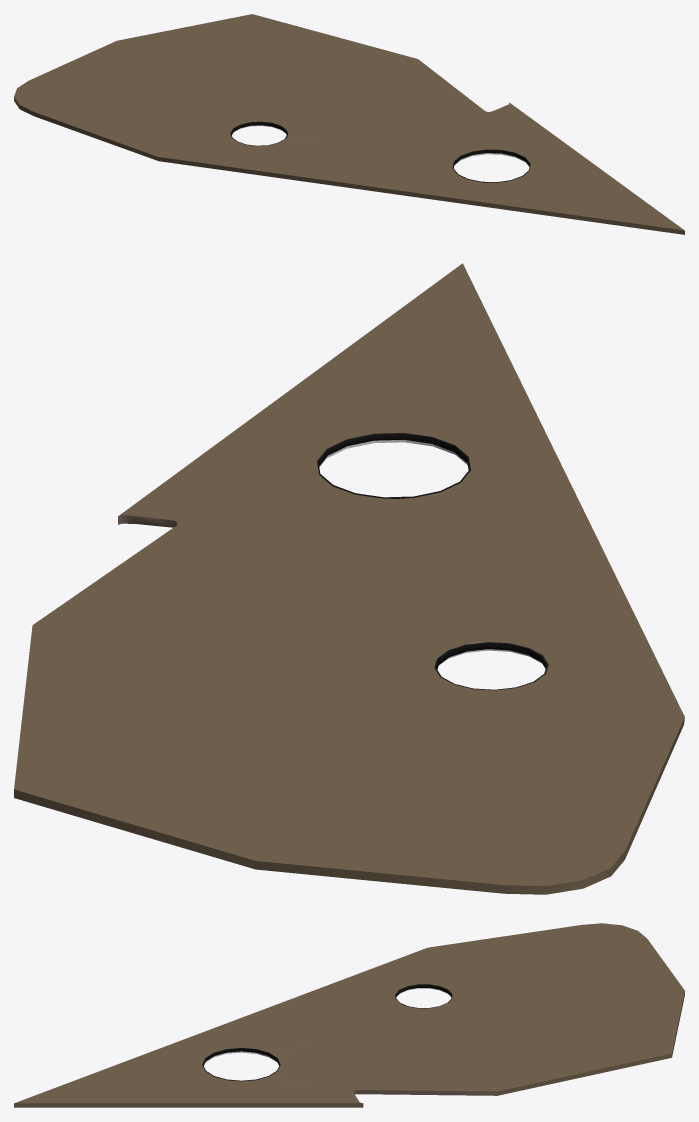
The model's file is sand.fbx.
The picture shows the model from 3 angles, top to bottom: view 1: azimuth 30°, elevation 25°; view 2: azimuth 150°, elevation 25°; view 3: azimuth 270°, elevation 25°; orthographic projection. The views are drawn at different scales.
Parts seen in each view (by area): view 1: Cylinder.041; view 2: Cylinder.041; view 3: Cylinder.041.
Part boxes in pixels (<box>): Cylinder.041: <box>14,14,684,234</box>; Cylinder.041: <box>14,263,684,894</box>; Cylinder.041: <box>14,923,684,1107</box>.
Size of the model in its own units: 2015 by 24.89 by 3173.
